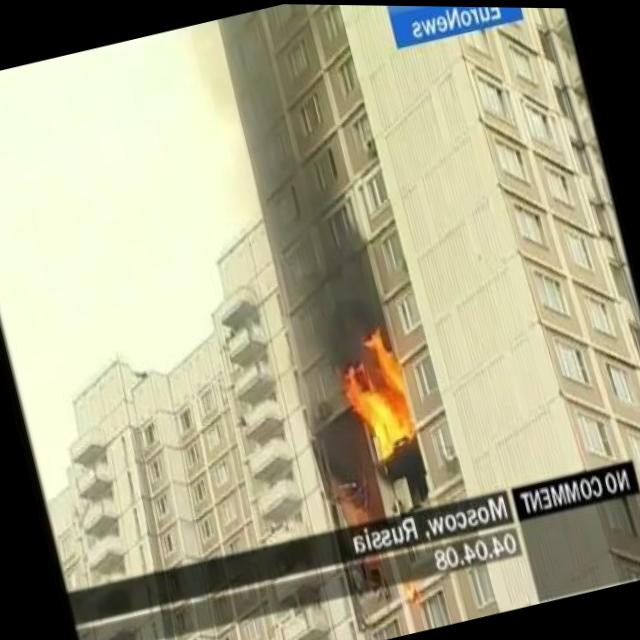fire: (330, 319, 420, 457), (327, 485, 374, 529)
